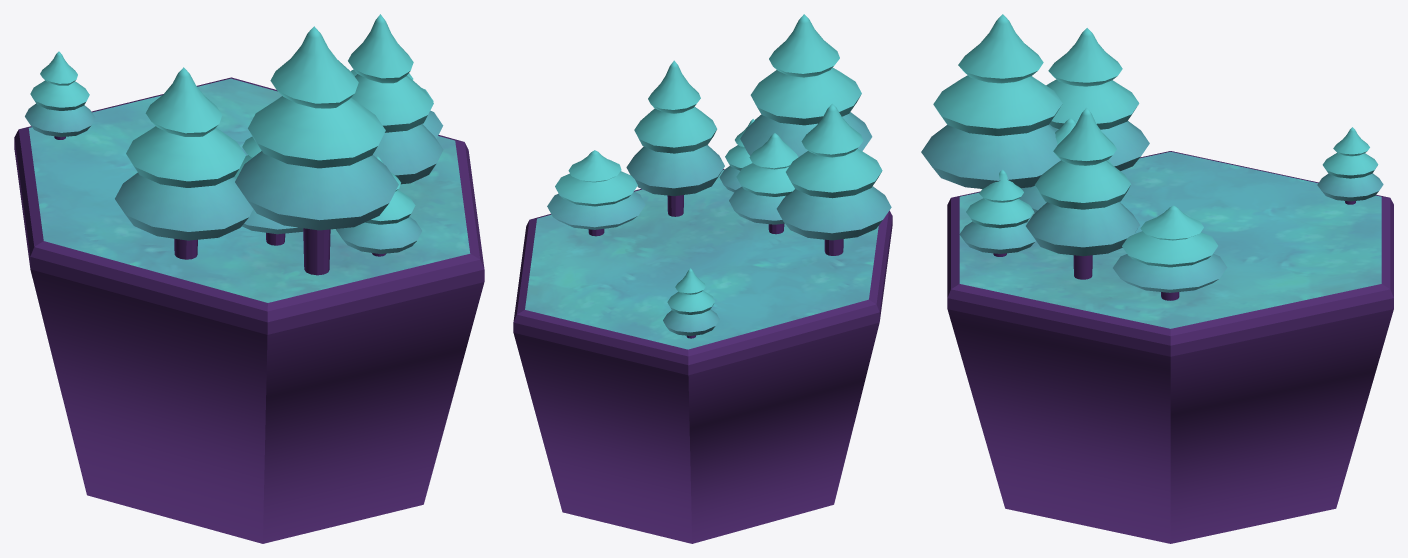
The model's file is Asset_TileMontain 1.fbx.
The picture shows the model from 3 angles, left to right: view 1: azimuth 30°, elevation 25°; view 2: azimuth 150°, elevation 25°; view 3: azimuth 270°, elevation 25°; orthographic projection. The views are drawn at different scales.
Parts seen in each view (by area): view 1: PolySurface_TileMontain_01, PolySurface_Tree_06, PolySurface_Tree_04, PolySurface_Tree_03, PolySurface_Tree_05, PolySurface_Tree_01, PolySurface_Tree_07; view 2: PolySurface_TileMontain_01, PolySurface_Tree_04, PolySurface_Tree_06, PolySurface_Tree_03, PolySurface_Tree_02, PolySurface_Tree_07, PolySurface_Tree_05, PolySurface_Tree_01; view 3: PolySurface_TileMontain_01, PolySurface_Tree_06, PolySurface_Tree_03, PolySurface_Tree_04, PolySurface_Tree_02, PolySurface_Tree_01, PolySurface_Tree_05, PolySurface_Tree_07.
Part boxes in pixels (x1,y1,x2,y2): PolySurface_TileMontain_01: (14,77,484,543); PolySurface_Tree_06: (235,26,398,275); PolySurface_Tree_04: (115,67,253,259); PolySurface_Tree_03: (348,14,443,184); PolySurface_Tree_05: (25,51,95,139); PolySurface_Tree_01: (336,156,421,256); PolySurface_Tree_07: (234,136,303,245); PolySurface_TileMontain_01: (513,169,892,543); PolySurface_Tree_04: (776,103,891,255); PolySurface_Tree_06: (740,14,872,157); PolySurface_Tree_03: (626,60,724,216); PolySurface_Tree_02: (547,150,645,236); PolySurface_Tree_07: (729,133,798,234); PolySurface_Tree_05: (663,268,719,338); PolySurface_Tree_01: (719,119,754,192); PolySurface_TileMontain_01: (947,151,1393,543); PolySurface_Tree_06: (921,14,1062,188); PolySurface_Tree_03: (1026,107,1139,279); PolySurface_Tree_04: (1046,28,1149,170); PolySurface_Tree_02: (1113,205,1227,300); PolySurface_Tree_01: (959,169,1035,256); PolySurface_Tree_05: (1317,127,1383,204); PolySurface_Tree_07: (1018,118,1112,212).
Bounding box in the file's own units: 2 × 2.21 × 2.12.
